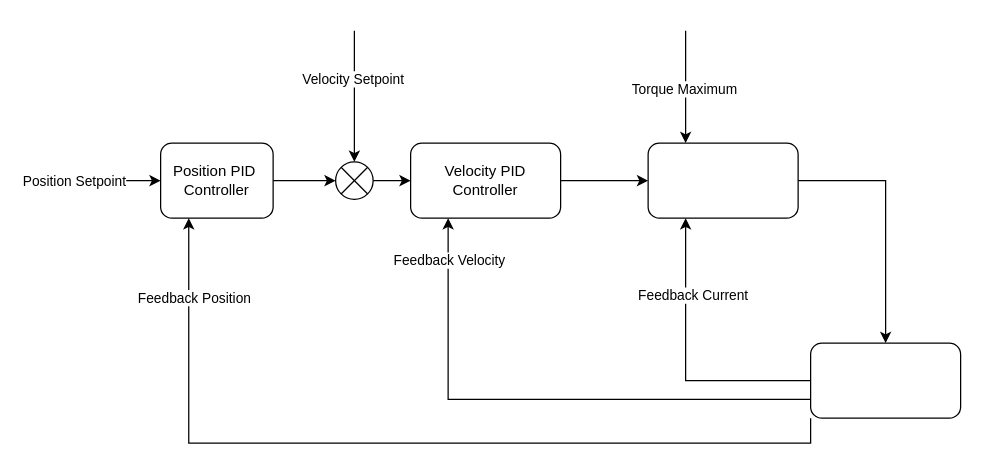
Image size: 983x475. Some labels were removed from this diagram. The shapes that lost their labels are listed below. From the top down, each one's box as (x1, y1, x2, y2) in pixels, then its label:
(647, 142, 798, 218): Current PID Controller
(809, 342, 961, 418): Motor
